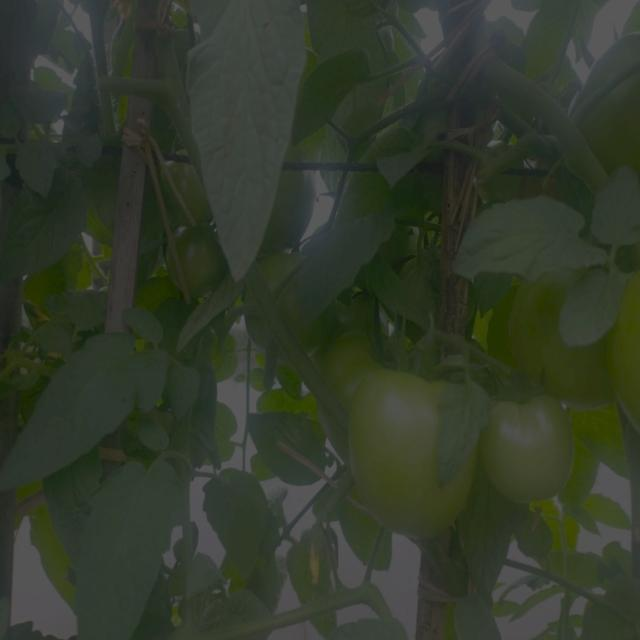tomato: (356, 370, 474, 531), (512, 276, 605, 399), (488, 396, 578, 503), (586, 32, 640, 160), (262, 152, 322, 252), (610, 271, 640, 436), (320, 336, 396, 400), (170, 225, 228, 294)
